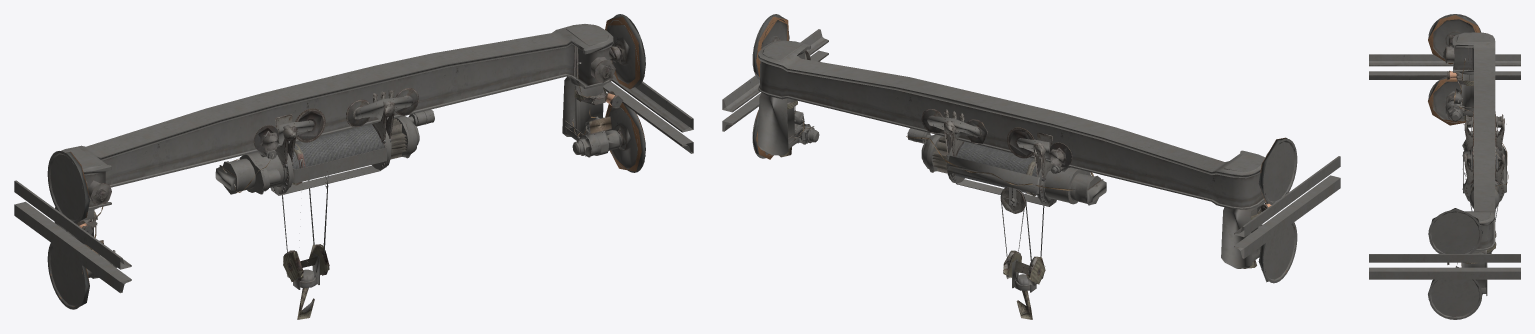
Rendered from overhead_crane.glb.
3 views of the same model, side by side, from view 1: azimuth 30°, elevation 25°; view 2: azimuth 150°, elevation 25°; view 3: azimuth 270°, elevation 25° (orthographic). The views are drawn at different scales.
Visible parts, largest first — view 1: overhead_crane_rails, overhead_crane_winch; view 2: overhead_crane_rails, overhead_crane_winch; view 3: overhead_crane_rails, overhead_crane_winch.
Part boxes in pixels (x1,y1,x2,y2): overhead_crane_rails: (14,14,693,309); overhead_crane_winch: (50,14,645,319); overhead_crane_rails: (722,14,1340,292); overhead_crane_winch: (752,16,1295,319); overhead_crane_rails: (1369,14,1520,319); overhead_crane_winch: (1428,14,1506,315).
Bounding box in the file's own units: 12.49 × 5.1 × 4.
2 materials, 2 textured.
